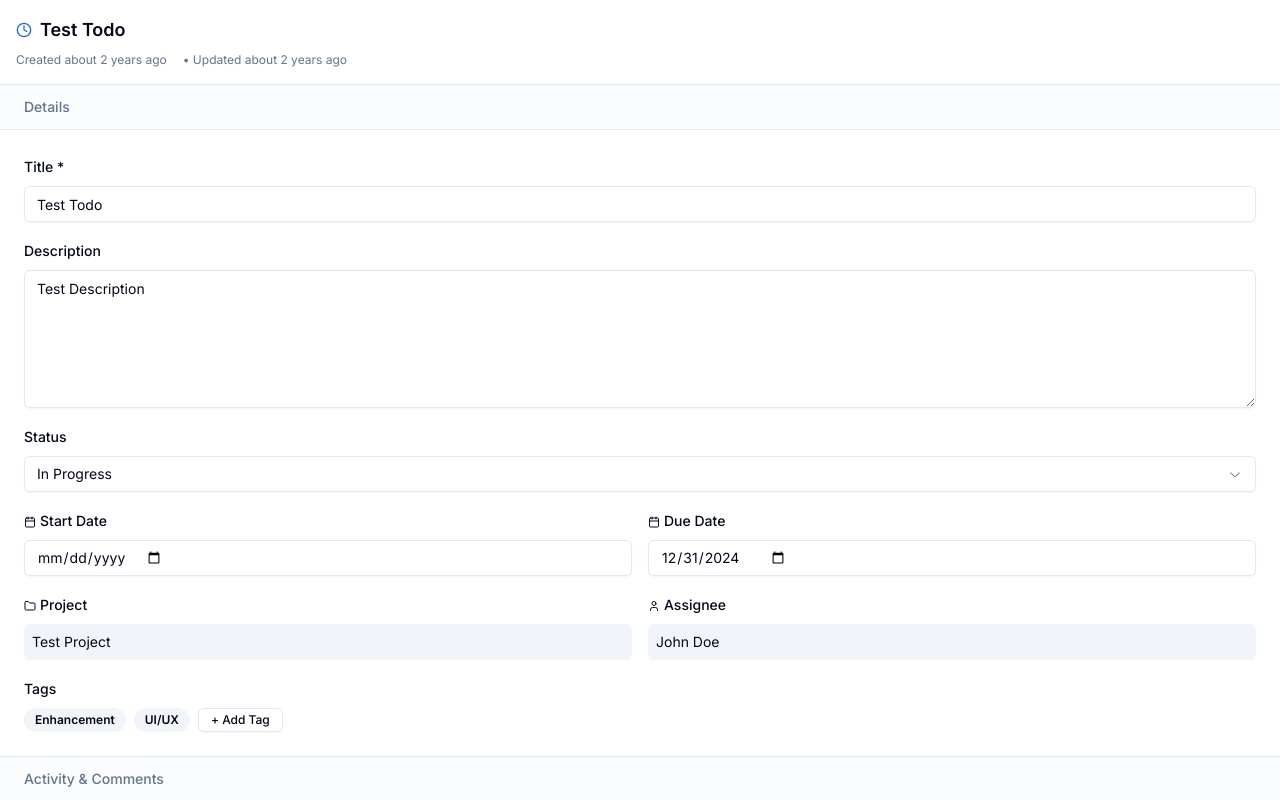
it: TodoDetailsPanelEnhanced › shows validation error for empty title
Step 1. Clear the field labelled "Title *" → point(640, 204), box [24, 186, 1256, 222]
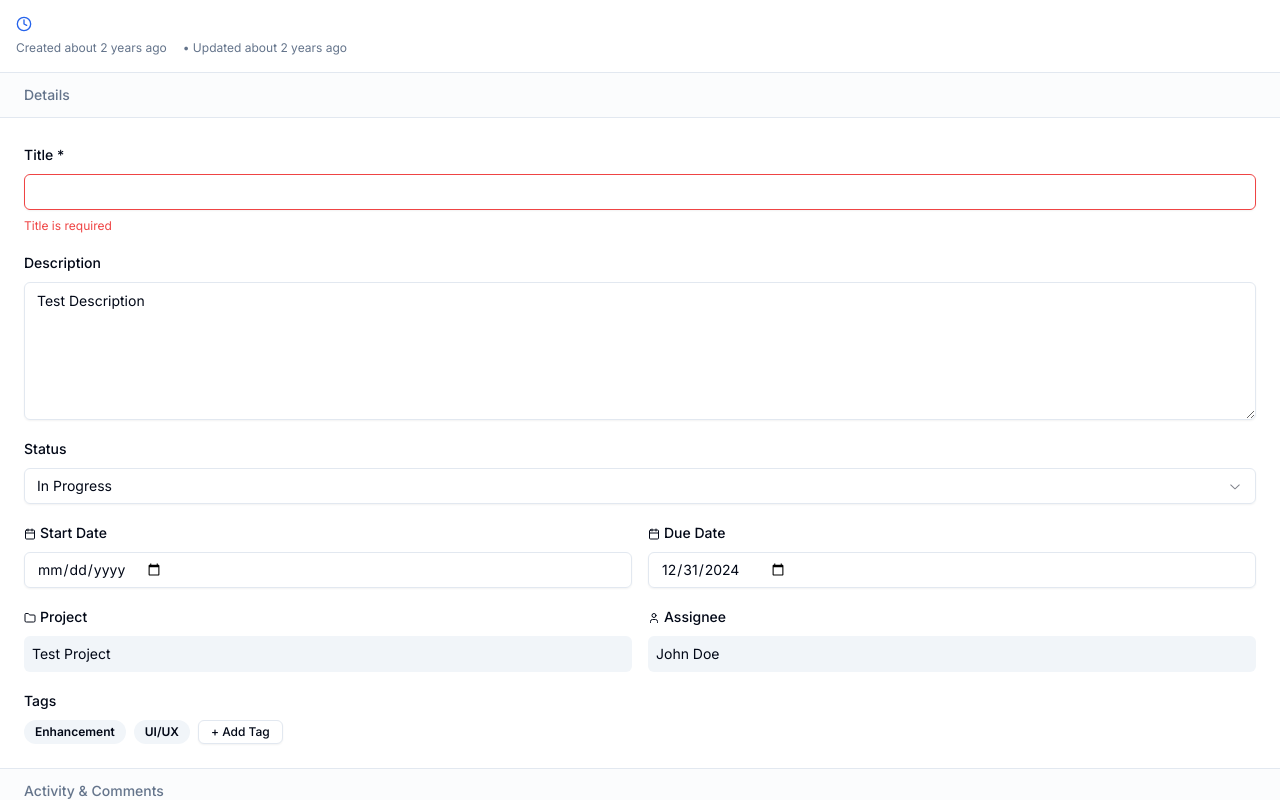
Result: the text "Title is required" is shown at [24, 218, 112, 233]
